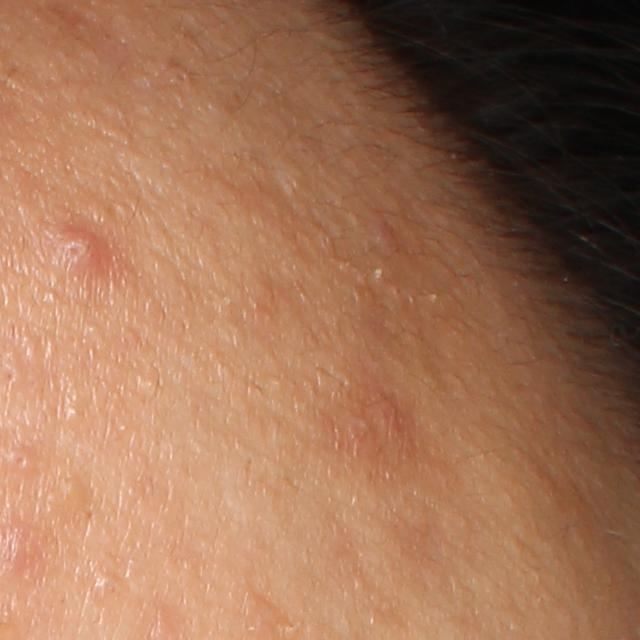comedo: (88, 571, 122, 608), (4, 444, 39, 475), (58, 398, 86, 429), (59, 474, 87, 503)
papule: (46, 217, 117, 276)
